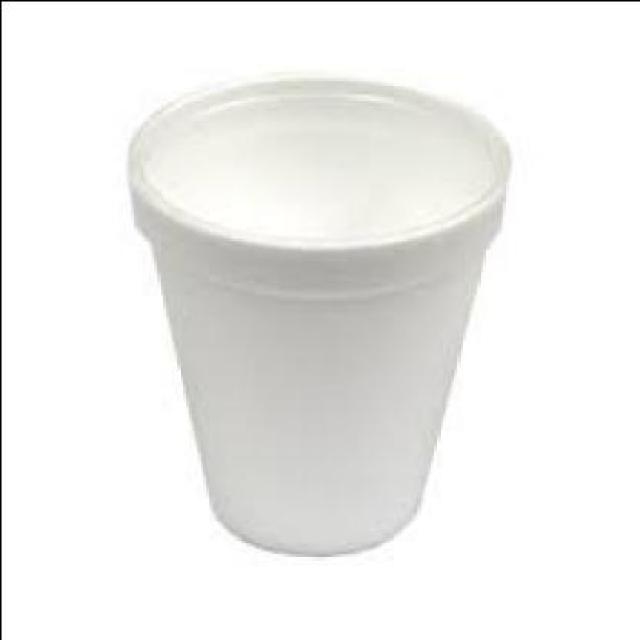PAPER: (122, 71, 504, 555)
